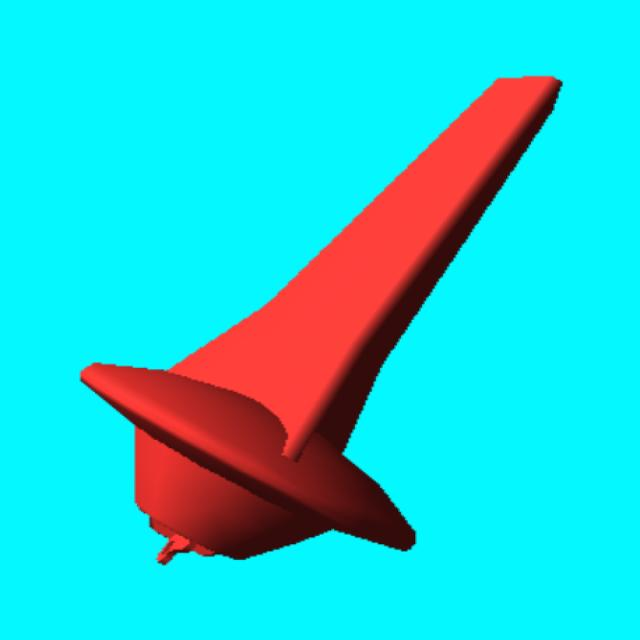RedBuoy: (80, 77, 563, 565)
